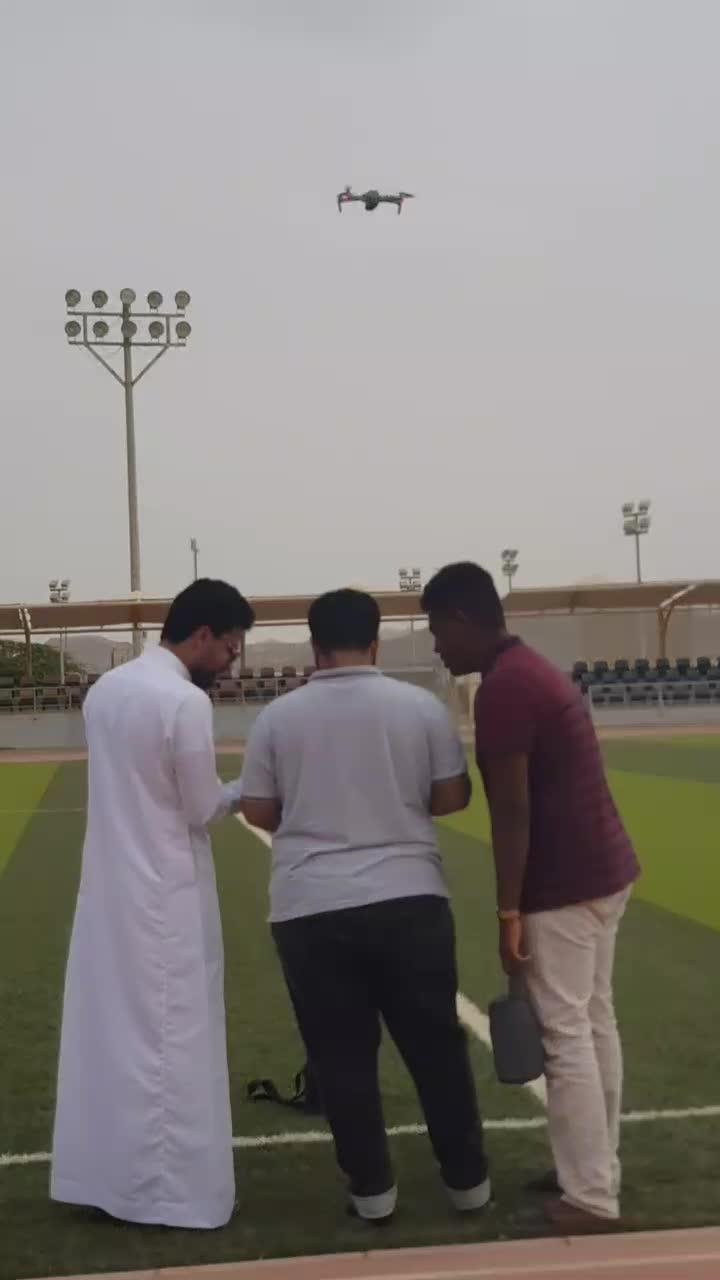drone: (322, 168, 420, 231)
